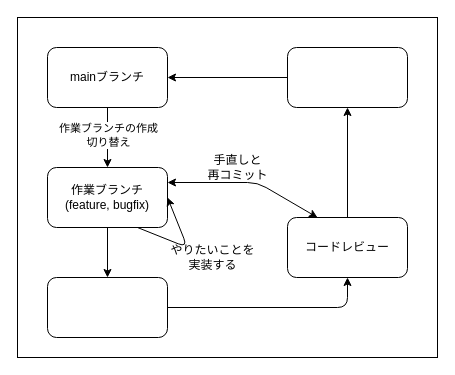
Some shapes in this 455 by 375 pixel diagram are drawn without their labels. The shapes that lost their labels are listed below. From the top down, each one's centre as x and y in pixels, then its label:
At pixel 347 77: "mainへの マージ処理".
At pixel 107 307: "Pull Request 作成".
